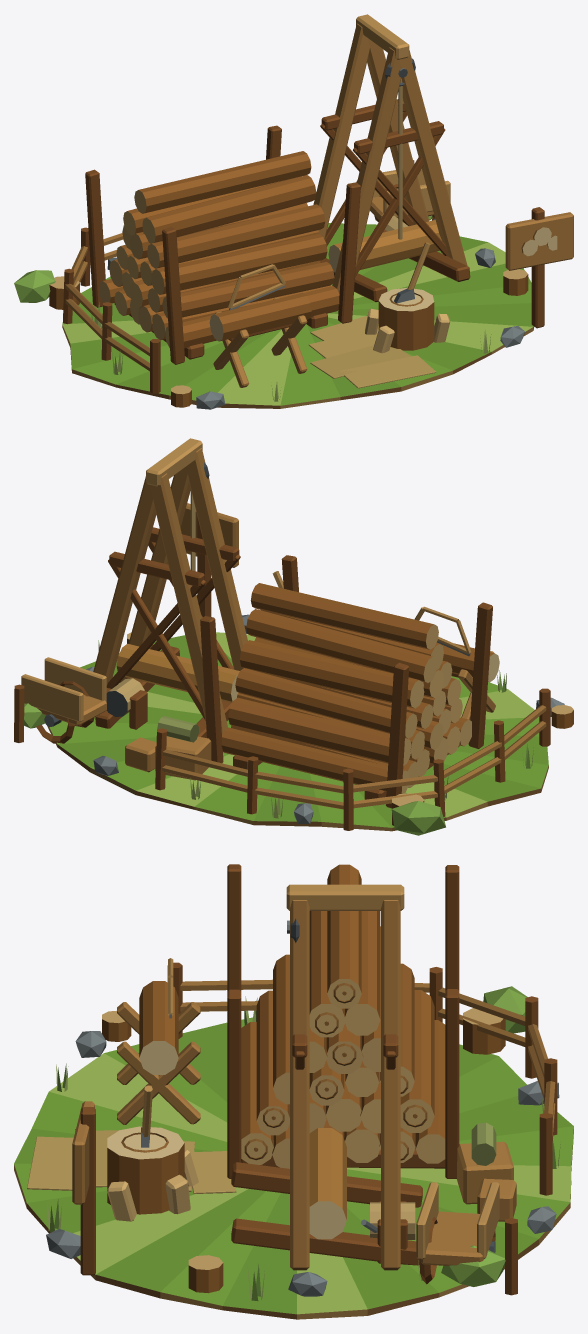
3 views of the same model, one above another, from view 1: azimuth 30°, elevation 25°; view 2: azimuth 150°, elevation 25°; view 3: azimuth 270°, elevation 25° (orthographic). The views are drawn at different scales.
Visible parts, largest first — view 1: WK_LoggingCamp_LOD0_High; view 2: WK_LoggingCamp_LOD0_High; view 3: WK_LoggingCamp_LOD0_High.
Part boxes in pixels (<box>): WK_LoggingCamp_LOD0_High: <box>14,14,573,409</box>; WK_LoggingCamp_LOD0_High: <box>14,438,573,835</box>; WK_LoggingCamp_LOD0_High: <box>14,864,573,1319</box>.
Size of the model in its own units: 12.46 by 6.67 by 9.66.
